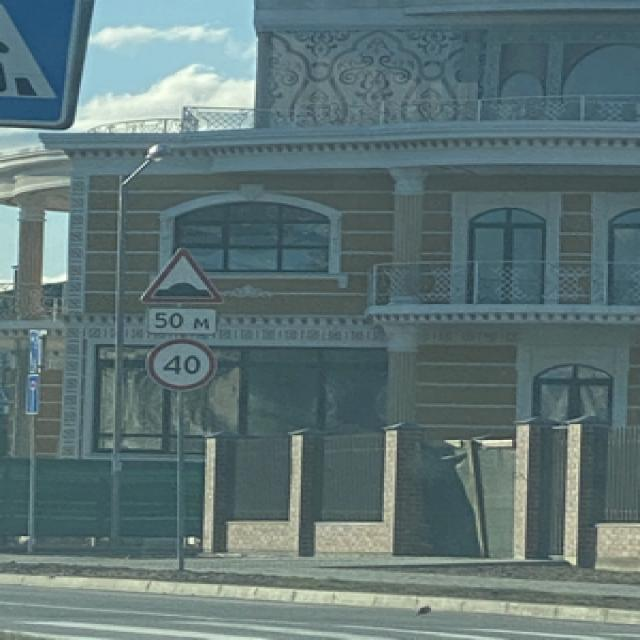speedlimit: (143, 338, 211, 388)
